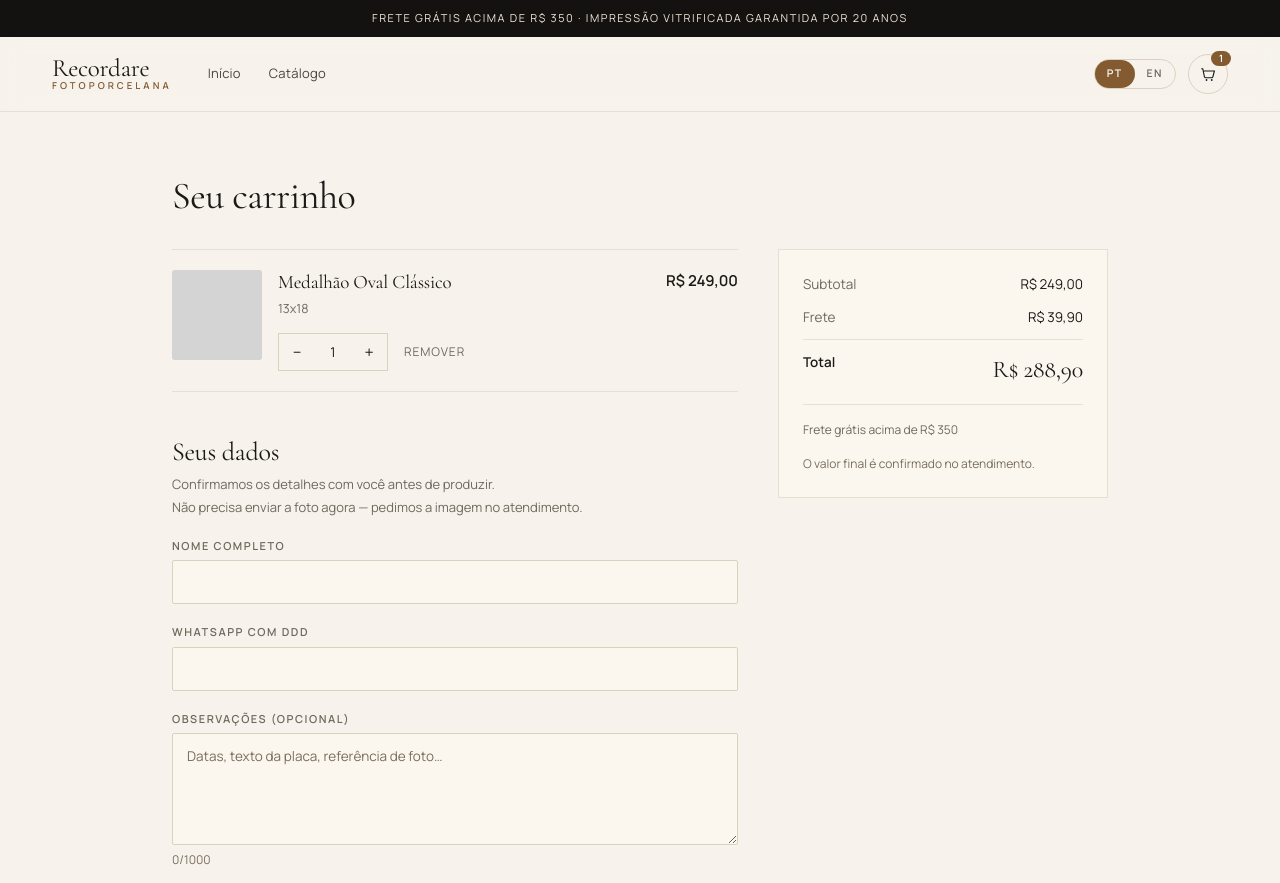
Scenario: checkout › não manda esperar quando o freio do banco barra o pedido
This screenshot has width=1280, height=883.
In the field labelled "Nome completo": [455, 582] box [172,560,738,604], type "Maria Silva"
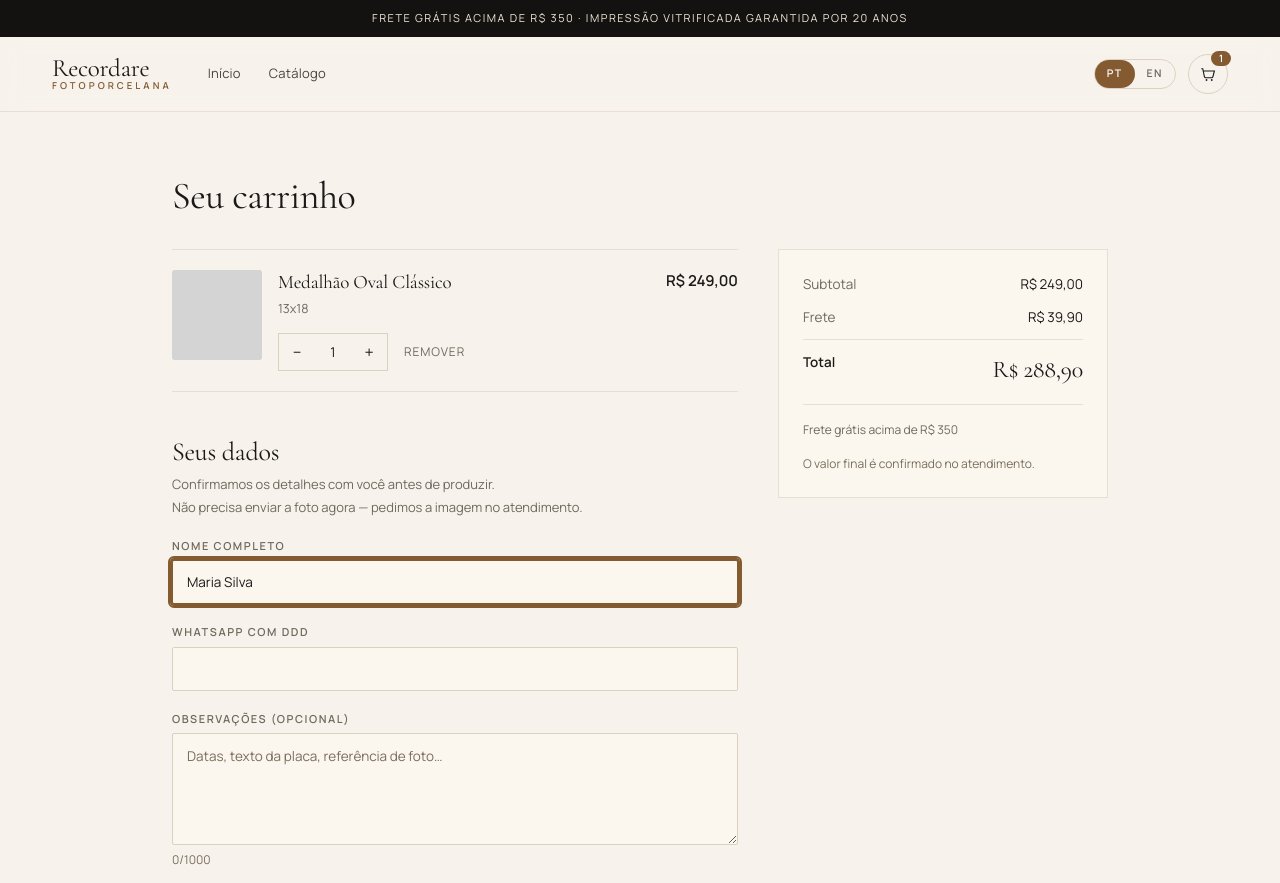
In the field labelled "WhatsApp com DDD": [455, 669] box [172,647,738,691], type "44999990000"
(page scrolled)
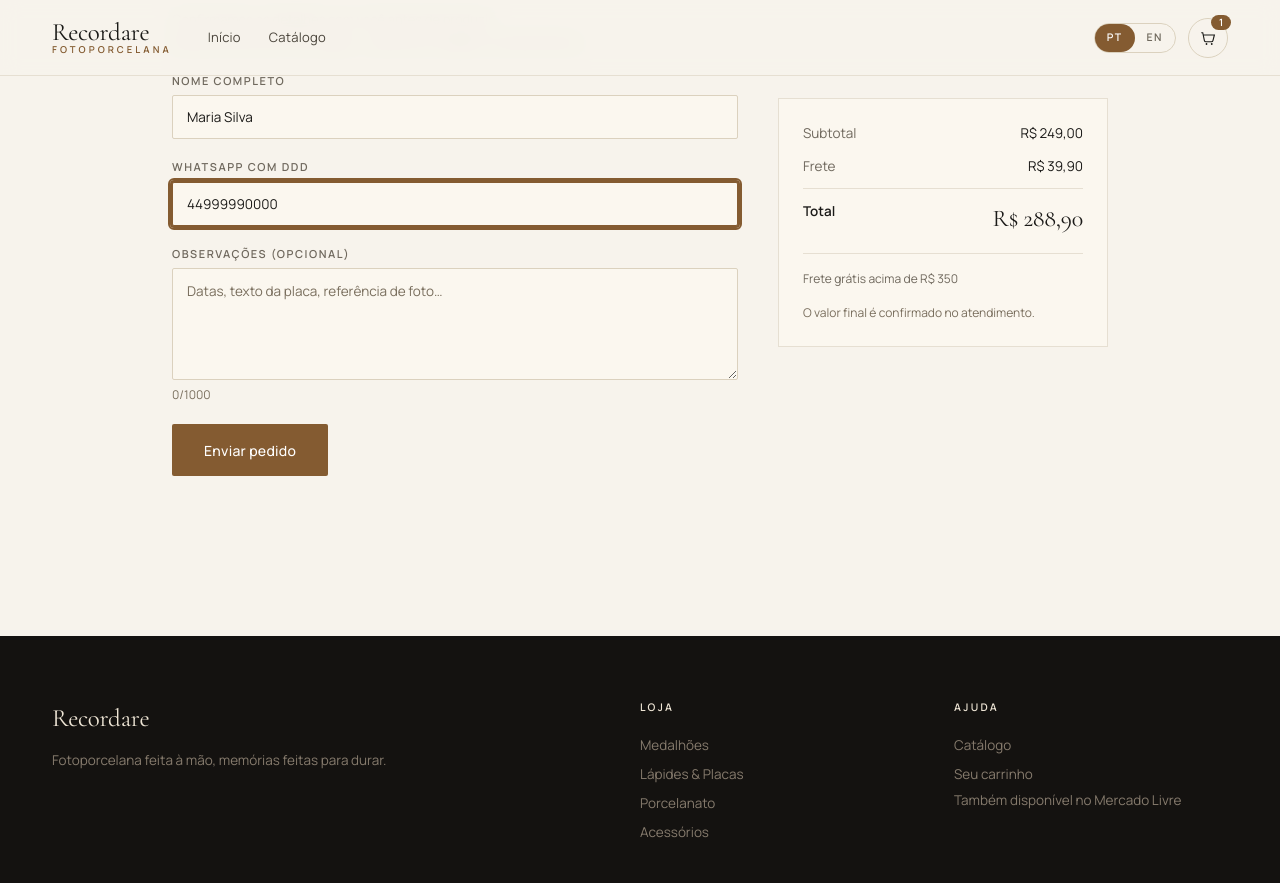
Click the button "Enviar pedido": [250, 450] box [172,424,328,476]
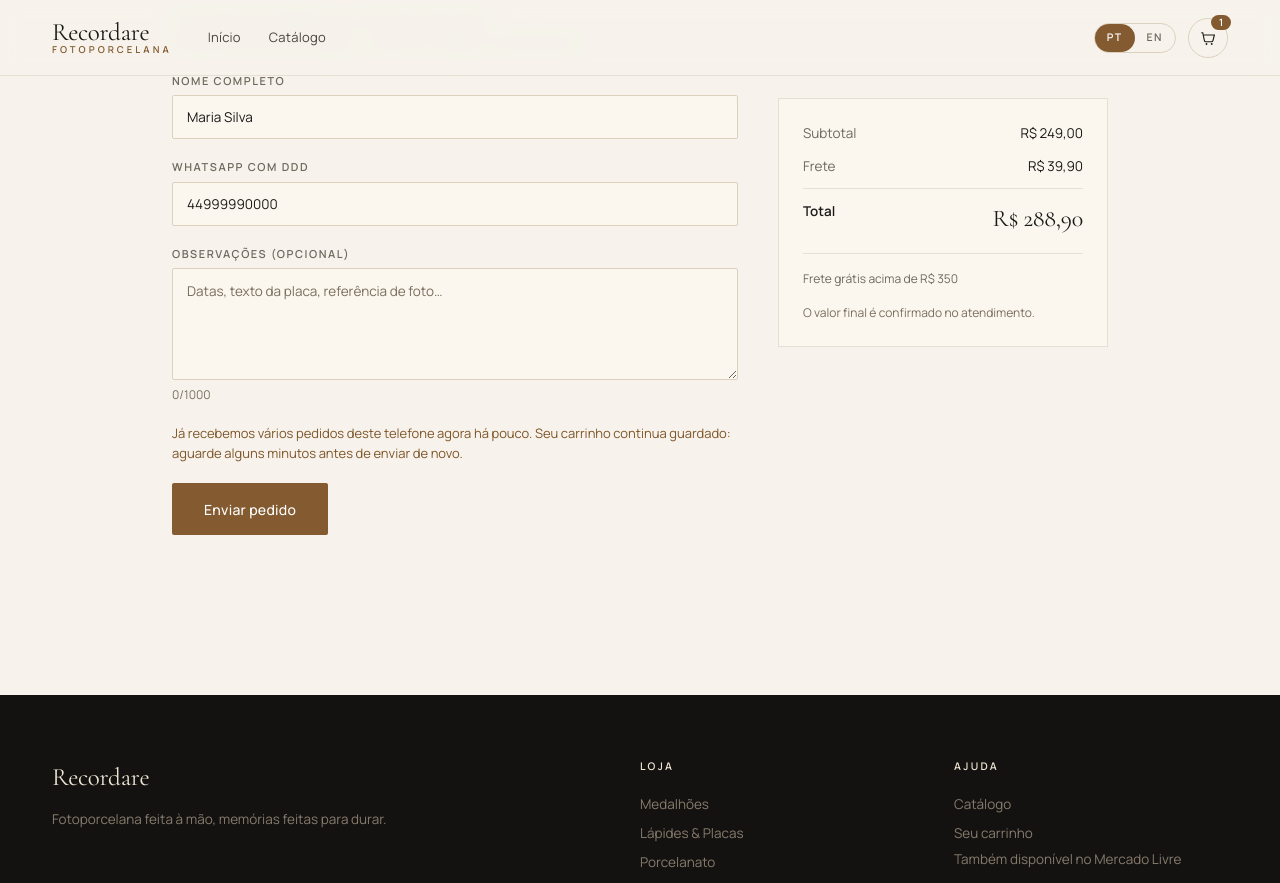
Result: the message shows "aguarde alguns minutos" at [172,424,731,462]
